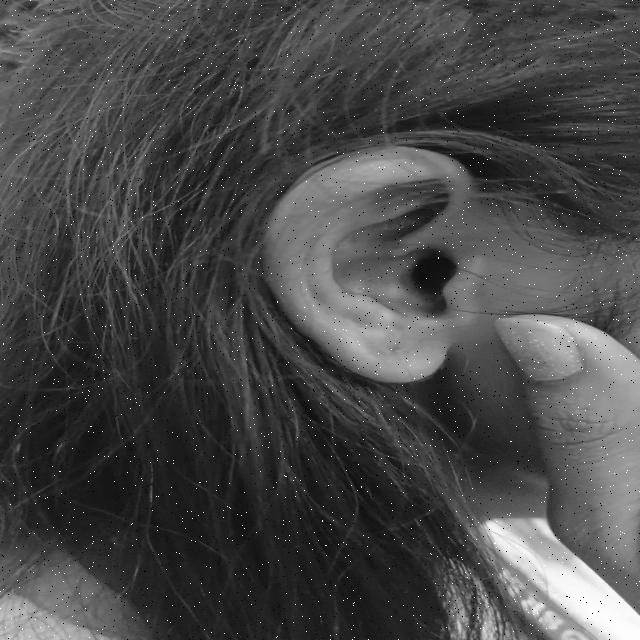ear: (263, 146, 481, 383)
